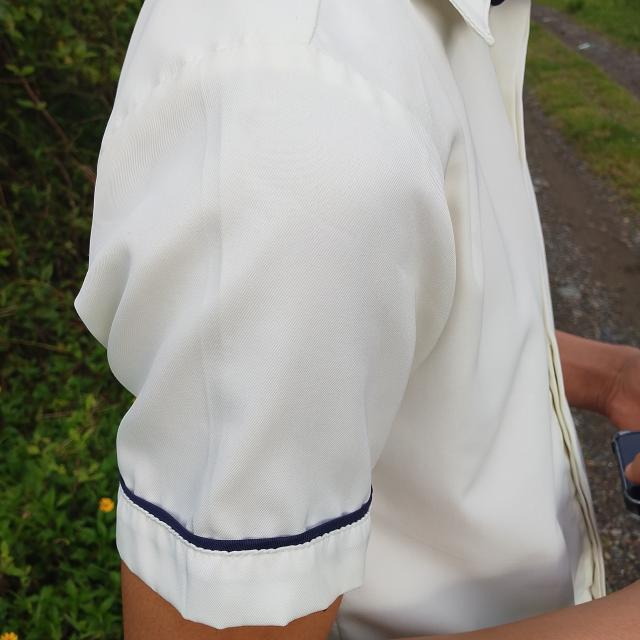education_male_uniform: (67, 0, 606, 640)
